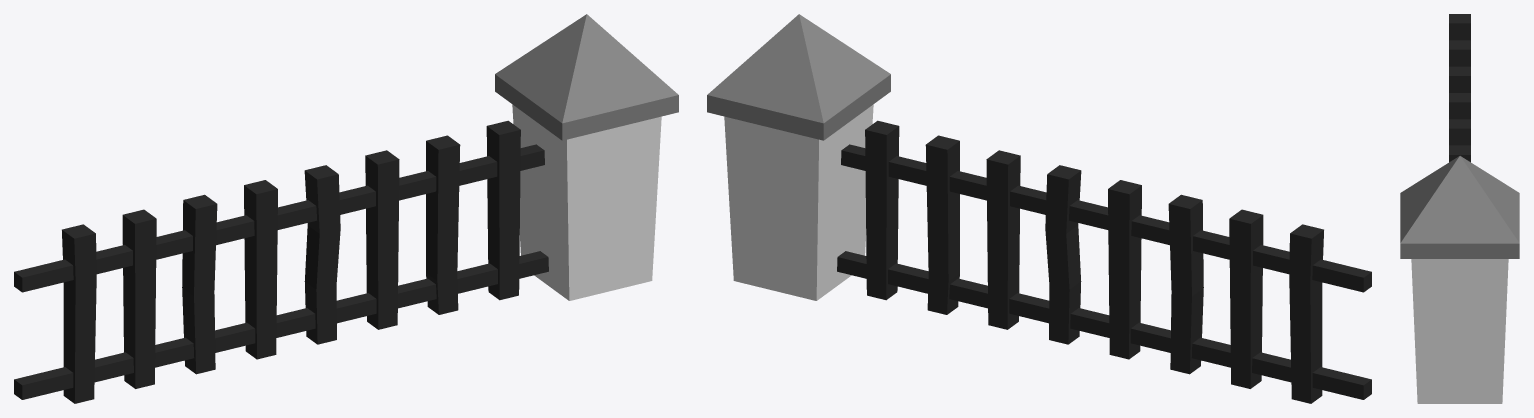
The model's file is Fence 3.fbx.
3 views of the same model, side by side, from view 1: azimuth 30°, elevation 25°; view 2: azimuth 150°, elevation 25°; view 3: azimuth 270°, elevation 25° (orthographic). The views are drawn at different scales.
Visible parts, largest first — view 1: Fence 3; view 2: Fence 3; view 3: Fence 3.
Boxes of the visible parts, x1,y1,x2,y2 form: Fence 3: (14,14,678,403); Fence 3: (707,14,1371,403); Fence 3: (1400,14,1519,403).
Size of the model in its own units: 560 by 222 by 104.
